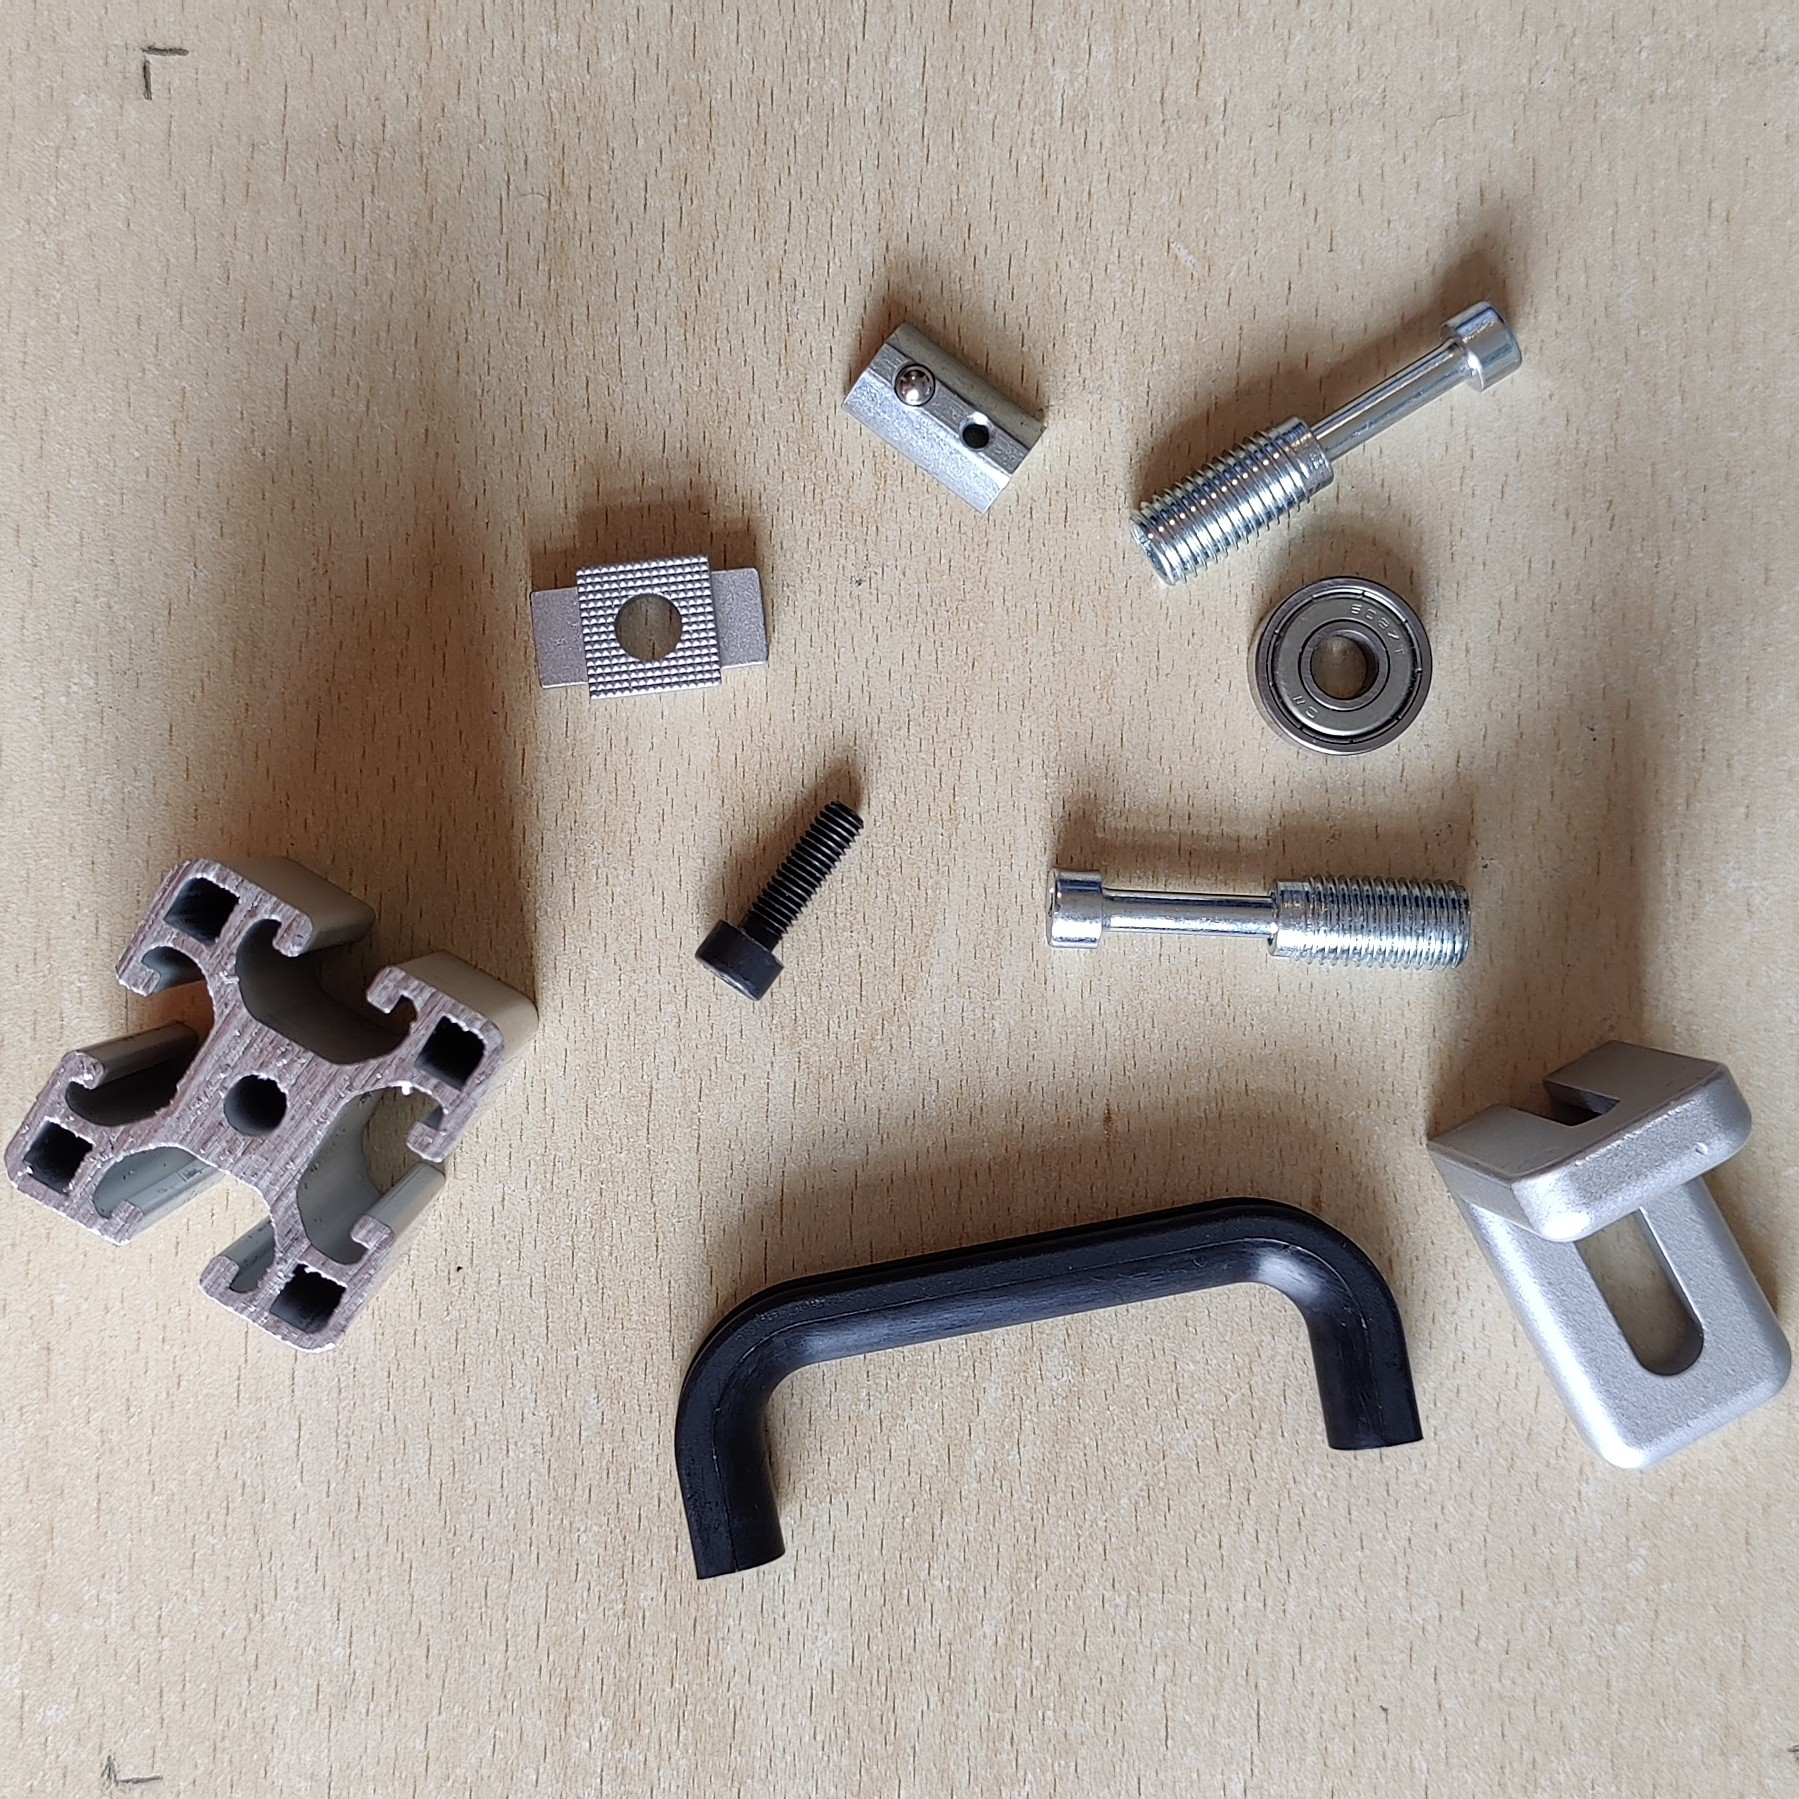Aluminium Extension: (2, 852, 542, 1357)
Ball Bearing: (1247, 572, 1435, 758)
Multiwinkel: (1423, 1035, 1799, 1474)
Pull Handle: (672, 1193, 1427, 1583)
Shoulder Socket Head Cap Screw: (1124, 295, 1526, 591), (1041, 857, 1474, 974)
Socket Head Cap Screw: (690, 794, 867, 1003)
T Nut Square: (526, 545, 774, 699)
T Spring Nut: (839, 320, 1049, 517)
